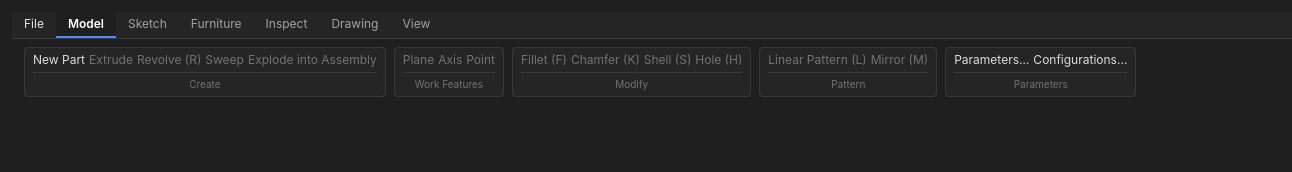
Ribbon › switching to Inspect shows the Interference Check button
Click the tab "Inspect" at (286, 25), box top-left (254, 12), bottom-right (319, 38)
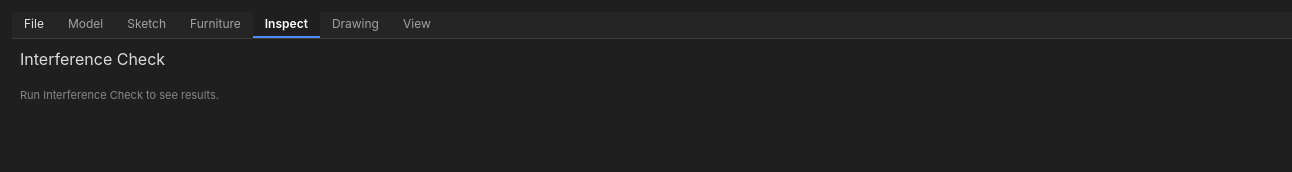
Check: the button "Interference Check" is shown, box top-left (20, 47), bottom-right (165, 71)
